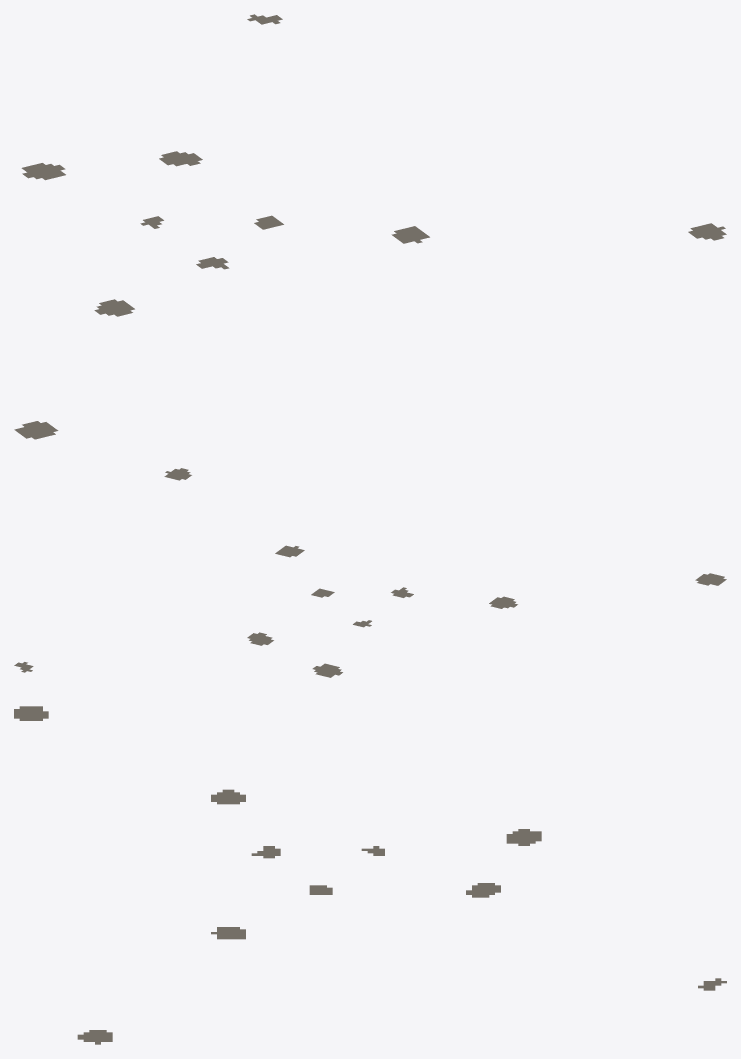
The model's file is Inv-2-RocksArea.fbx.
3 views of the same model, one above another, from view 1: azimuth 30°, elevation 25°; view 2: azimuth 150°, elevation 25°; view 3: azimuth 270°, elevation 25° (orthographic). The views are drawn at different scales.
Parts seen in each view (by area): view 1: Inv-2-RocksArea; view 2: Inv-2-RocksArea; view 3: Inv-2-RocksArea.
Part boxes in pixels (x1,y1,x2,y2): Inv-2-RocksArea: (14,14,726,439); Inv-2-RocksArea: (14,468,726,677); Inv-2-RocksArea: (14,706,726,1044).
Bounding box in the file's own units: 138 × 0 × 123.
